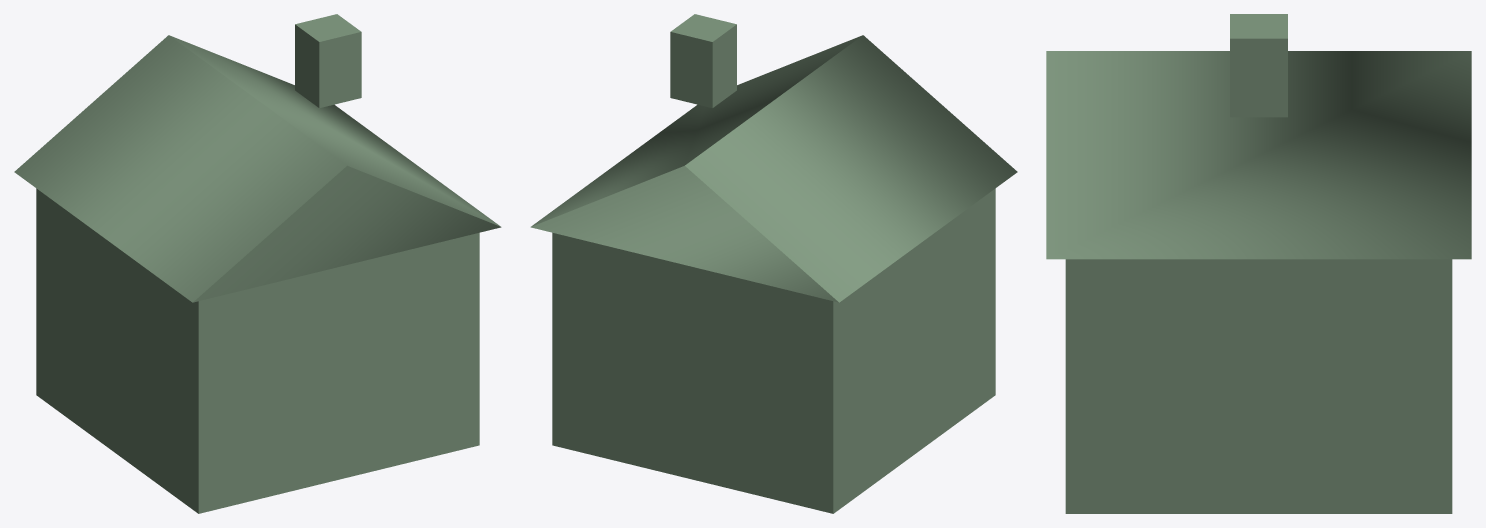
Rendered from healer.obj.
3 views of the same model, side by side, from view 1: azimuth 30°, elevation 25°; view 2: azimuth 150°, elevation 25°; view 3: azimuth 270°, elevation 25° (orthographic). The views are drawn at different scales.
Parts seen in each view (by area): view 1: building; view 2: building; view 3: building.
Part boxes in pixels (bbox=[...]): building: bbox=[14, 14, 501, 513]; building: bbox=[530, 14, 1017, 513]; building: bbox=[1046, 14, 1471, 513].
Size of the model in its own units: 2.2 by 2.55 by 2.2.
